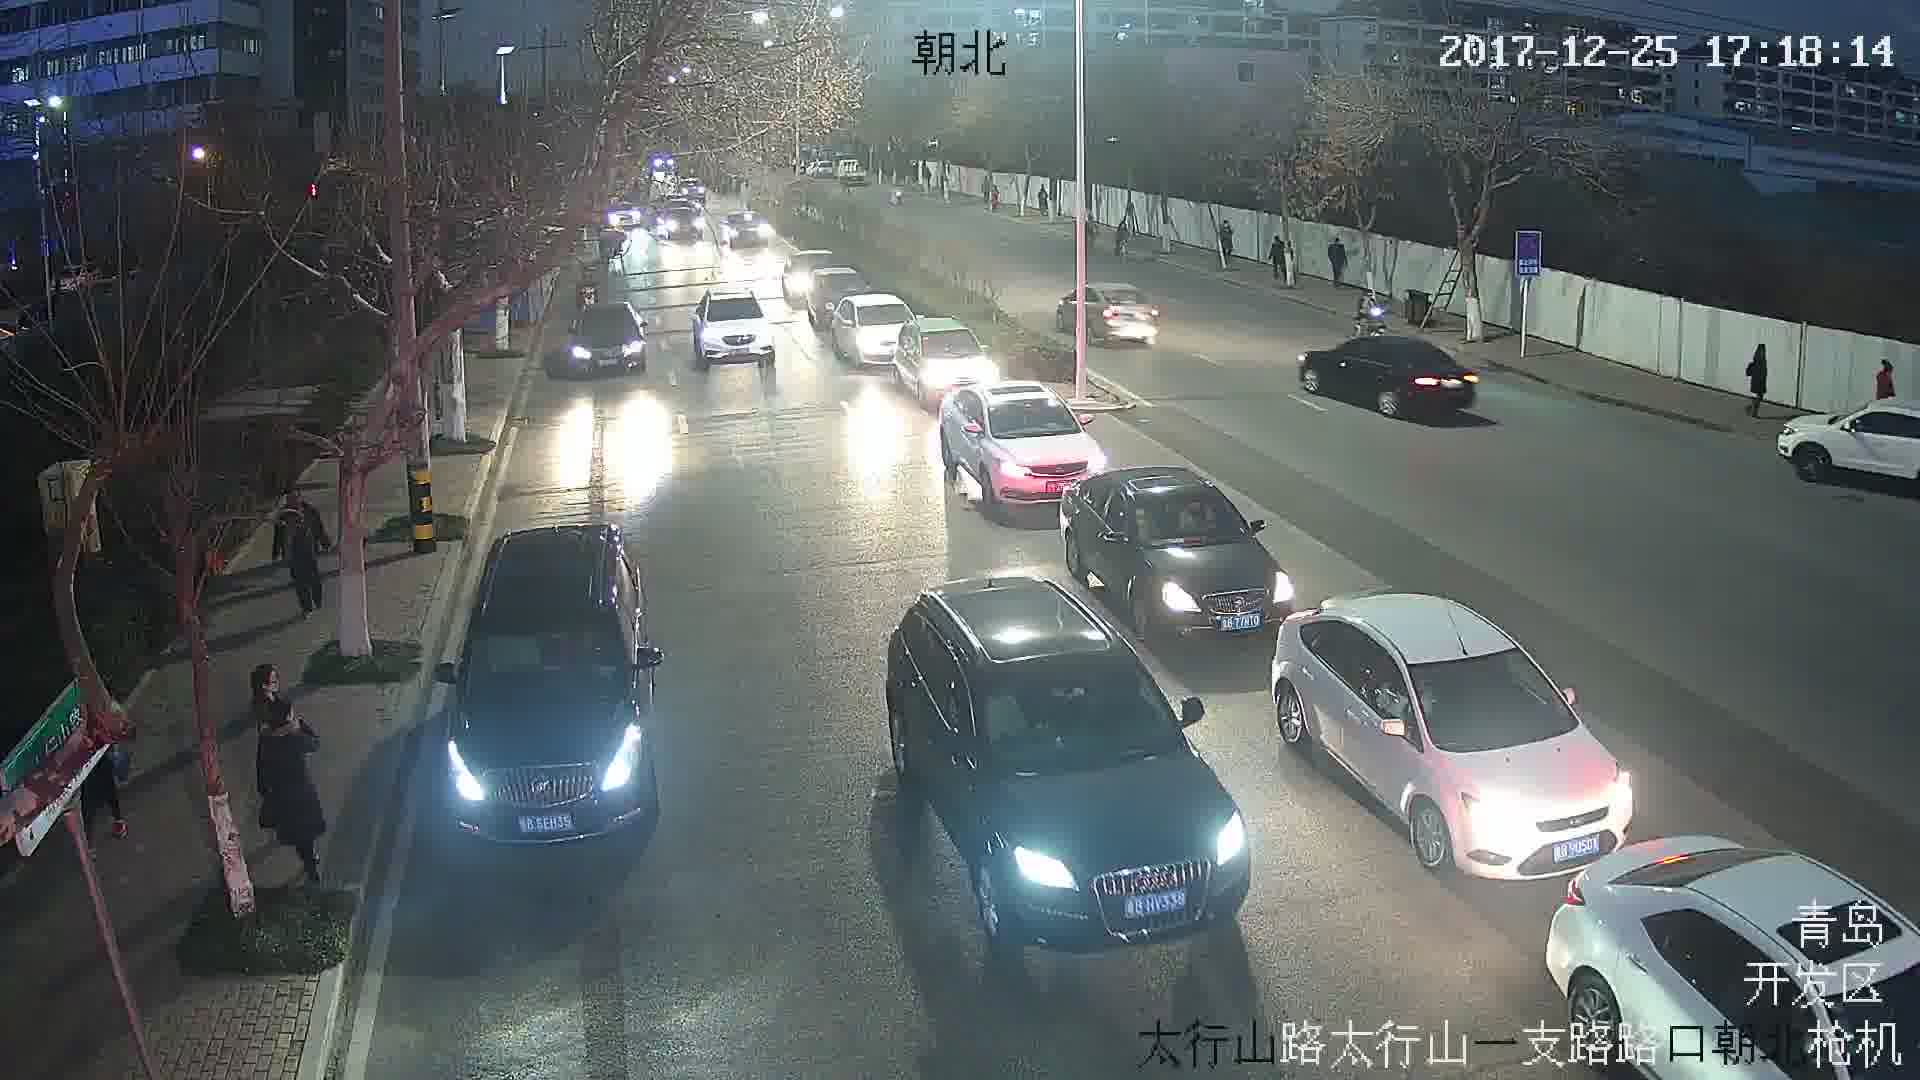car: (889, 577, 1250, 946), (1278, 592, 1634, 877), (435, 523, 664, 856), (1068, 469, 1299, 635), (938, 385, 1109, 507), (1300, 330, 1477, 427), (1059, 285, 1160, 348), (689, 292, 773, 366), (564, 302, 649, 374)
person: (259, 707, 332, 885), (274, 494, 332, 617), (255, 671, 287, 750), (1749, 339, 1771, 419), (1324, 237, 1348, 288), (1268, 238, 1291, 287)
